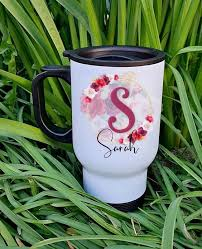mug: (33, 36, 168, 209)
